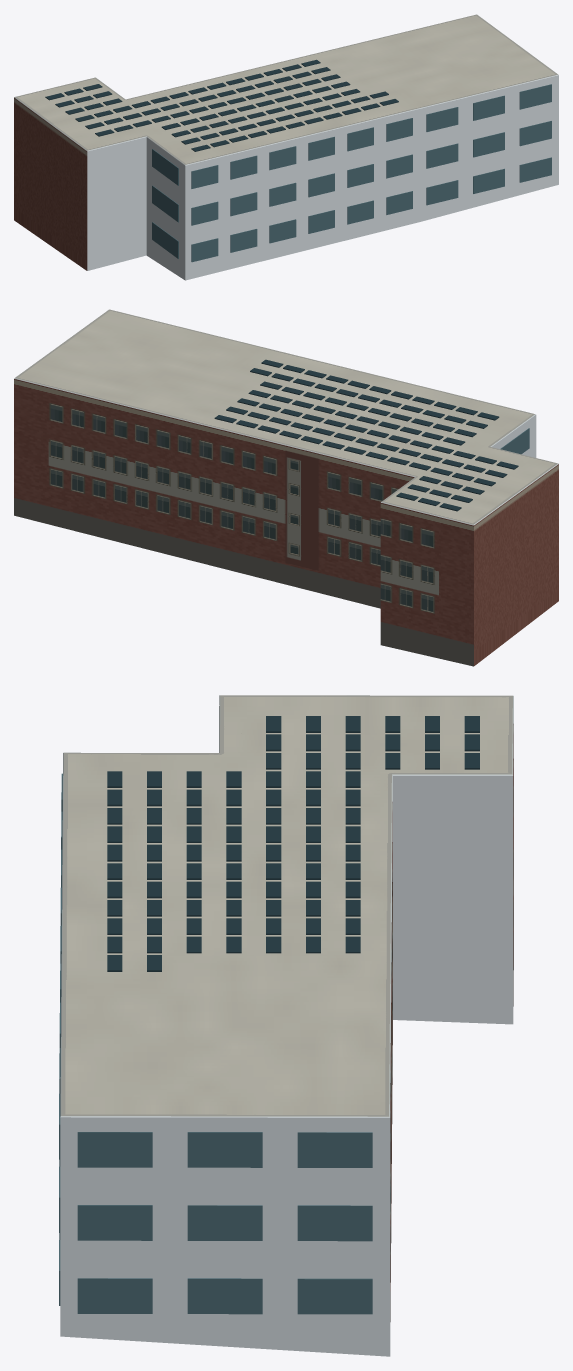
Rendered from fragments.glb.
The picture shows the model from 3 angles, top to bottom: view 1: azimuth 30°, elevation 25°; view 2: azimuth 150°, elevation 25°; view 3: azimuth 270°, elevation 25°; orthographic projection. The views are drawn at different scales.
Visible parts, largest first — view 1: SM_rotc_Fragment_050, SM_rotc_Fragment_010, SM_rotc_Fragment_003, SM_rotc_Fragment_040, SM_rotc_Fragment_022, SM_rotc_Fragment_018, SM_rotc_Fragment_000, SM_rotc_Fragment_013, SM_rotc_Fragment_037, SM_rotc_Fragment_024, SM_rotc_Fragment_045, SM_rotc_Fragment_047 (+27 smaller); view 2: SM_rotc_Fragment_004, SM_rotc_Fragment_017, SM_rotc_Fragment_043, SM_rotc_Fragment_052, SM_rotc_Fragment_023, SM_rotc_Fragment_033, SM_rotc_Fragment_020, SM_rotc_Fragment_001, SM_rotc_Fragment_062, SM_rotc_Fragment_002, SM_rotc_Fragment_056, SM_rotc_Fragment_053 (+27 smaller); view 3: SM_rotc_Fragment_026, SM_rotc_Fragment_020, SM_rotc_Fragment_002, SM_rotc_Fragment_031, SM_rotc_Fragment_005, SM_rotc_Fragment_054, SM_rotc_Fragment_021, SM_rotc_Fragment_012, SM_rotc_Fragment_029, SM_rotc_Fragment_019, SM_rotc_Fragment_017, SM_rotc_Fragment_037 (+16 smaller).
Boxes of the visible parts, box(x1,y1,x2,y2) form: SM_rotc_Fragment_050: box(264, 126, 351, 224); SM_rotc_Fragment_010: box(51, 122, 135, 219); SM_rotc_Fragment_003: box(152, 155, 228, 255); SM_rotc_Fragment_040: box(467, 60, 558, 137); SM_rotc_Fragment_022: box(465, 132, 551, 208); SM_rotc_Fragment_018: box(420, 63, 494, 156); SM_rotc_Fragment_000: box(347, 127, 433, 222); SM_rotc_Fragment_013: box(202, 123, 293, 186); SM_rotc_Fragment_037: box(114, 120, 219, 185); SM_rotc_Fragment_024: box(186, 215, 280, 278); SM_rotc_Fragment_045: box(347, 96, 435, 156); SM_rotc_Fragment_047: box(42, 166, 111, 270); SM_rotc_Fragment_004: box(193, 405, 283, 517); SM_rotc_Fragment_017: box(123, 368, 220, 477); SM_rotc_Fragment_043: box(431, 475, 527, 546); SM_rotc_Fragment_052: box(27, 430, 134, 527); SM_rotc_Fragment_023: box(245, 507, 335, 594); SM_rotc_Fragment_033: box(63, 360, 163, 436); SM_rotc_Fragment_020: box(380, 472, 451, 584); SM_rotc_Fragment_001: box(405, 533, 516, 602); SM_rotc_Fragment_062: box(151, 436, 249, 533); SM_rotc_Fragment_002: box(14, 350, 96, 453); SM_rotc_Fragment_056: box(407, 586, 499, 666); SM_rotc_Fragment_053: box(274, 443, 343, 539); SM_rotc_Fragment_026: box(181, 1176, 390, 1349); SM_rotc_Fragment_020: box(366, 731, 513, 914); SM_rotc_Fragment_002: box(253, 1075, 390, 1242); SM_rotc_Fragment_031: box(133, 1050, 269, 1234); SM_rotc_Fragment_005: box(59, 1132, 162, 1305); SM_rotc_Fragment_054: box(60, 1225, 214, 1345); SM_rotc_Fragment_021: box(398, 892, 513, 1024); SM_rotc_Fragment_012: box(61, 860, 245, 941); SM_rotc_Fragment_029: box(103, 932, 281, 1018); SM_rotc_Fragment_019: box(186, 859, 386, 936); SM_rotc_Fragment_017: box(215, 956, 391, 1116); SM_rotc_Fragment_037: box(87, 728, 297, 811).
Size of the model in its own units: 2.2 by 0.6095 by 1.
8 materials, 3 textured.
